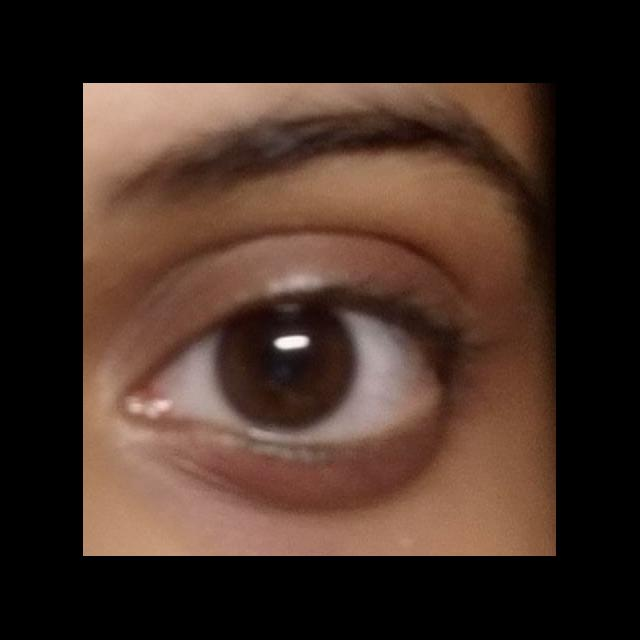eye: (152, 300, 441, 435)
iris: (221, 304, 356, 432)
